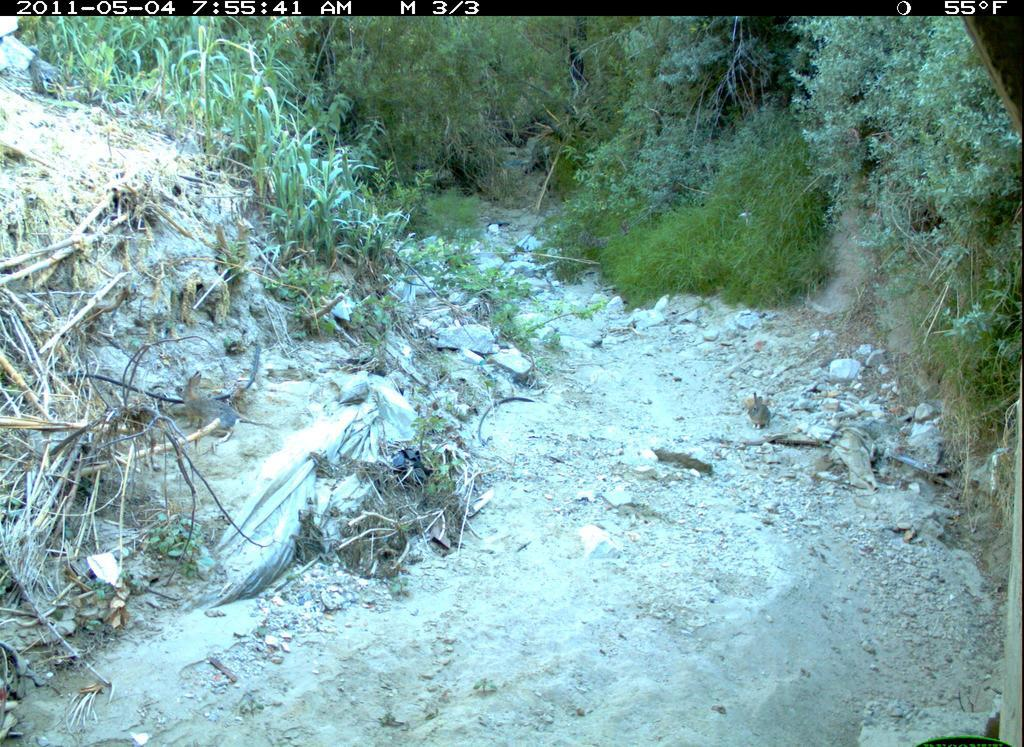rabbit: (175, 370, 244, 450), (743, 386, 780, 432)
